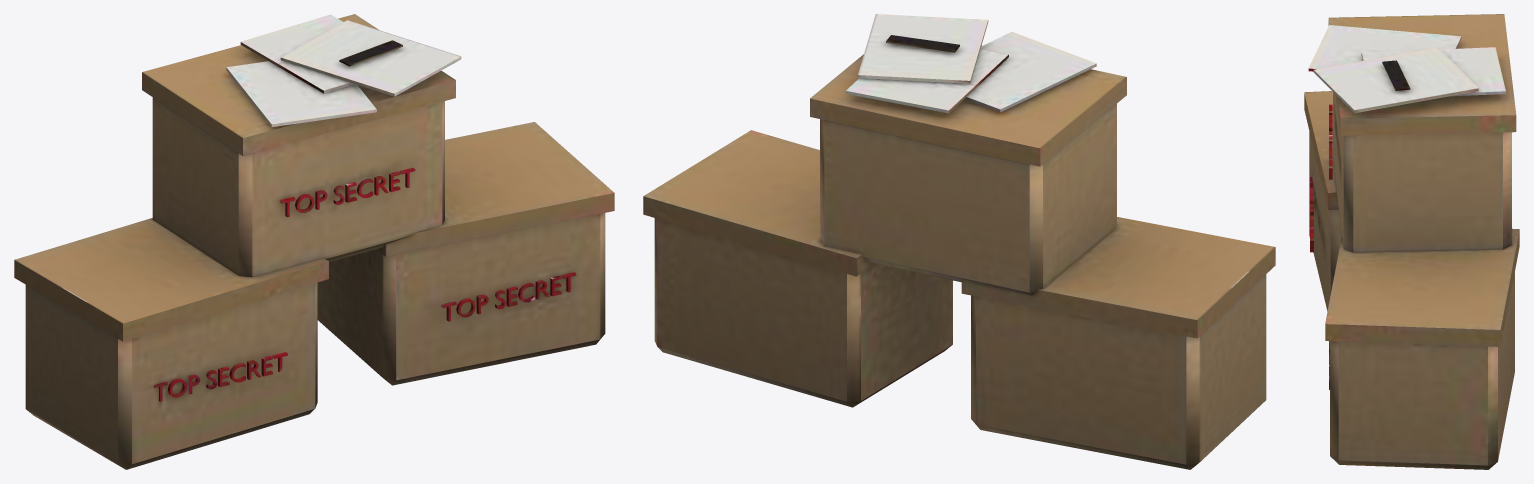
The model's file is cajas.glb.
The picture shows the model from 3 angles, left to right: view 1: azimuth 30°, elevation 25°; view 2: azimuth 150°, elevation 25°; view 3: azimuth 270°, elevation 25°; orthographic projection. The views are drawn at different scales.
Parts seen in each view (by area): view 1: cajas; view 2: cajas; view 3: cajas.
Part boxes in pixels (x1=…): cajas: x1=14, y1=14, x2=614, y2=469; cajas: x1=643, y1=14, x2=1275, y2=469; cajas: x1=1304, y1=14, x2=1519, y2=469.
Size of the model in its own units: 1.55 by 0.884 by 0.5756.
Materials: 1 (1 with a texture image).
